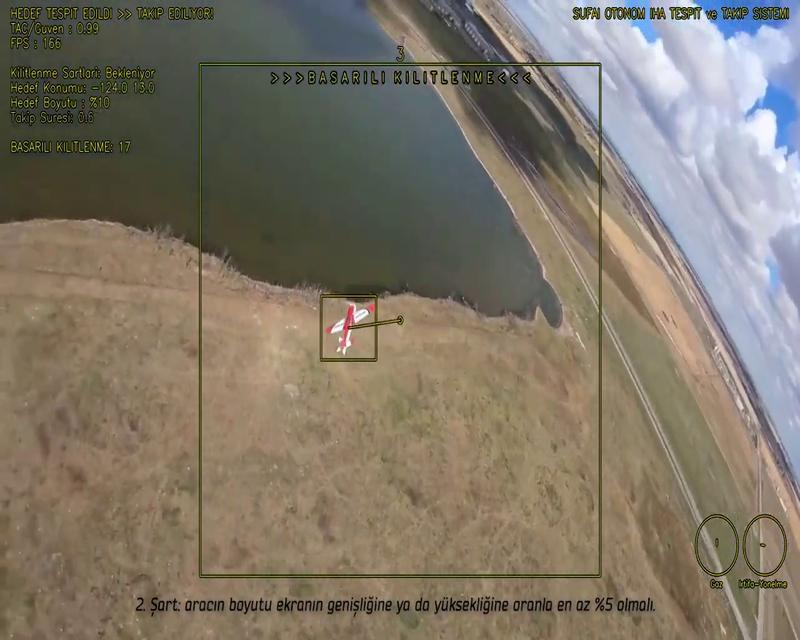UAV: (330, 304, 370, 356)
